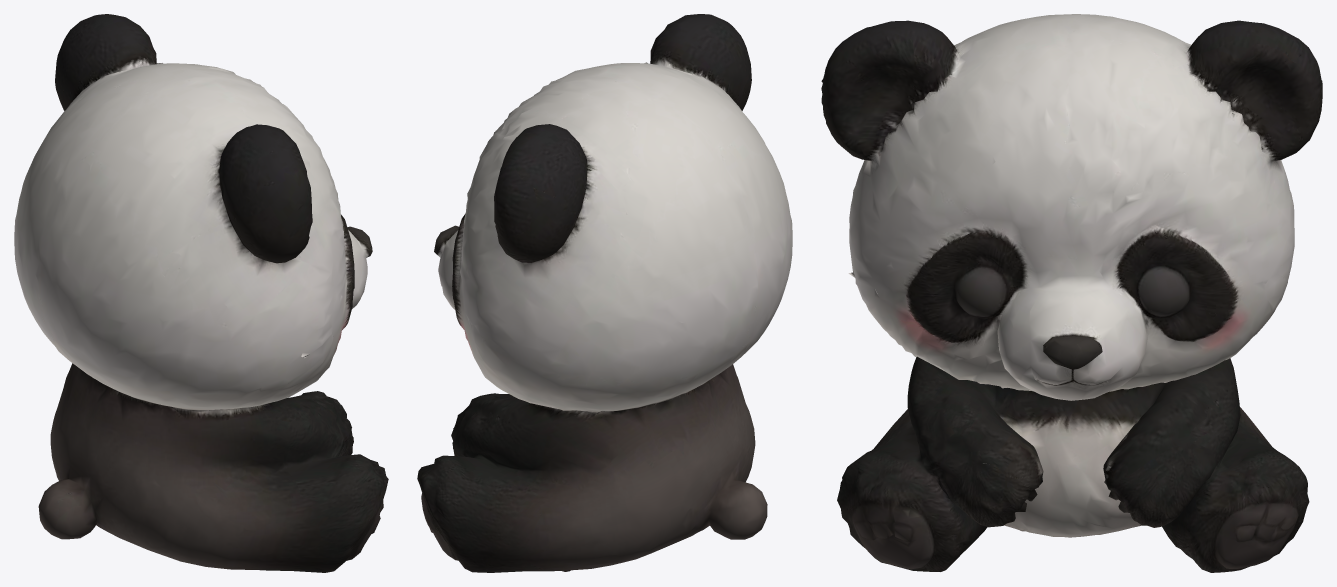
The model's file is panda.glb.
3 renders of one model, left to right at view 1: azimuth 30°, elevation 25°; view 2: azimuth 150°, elevation 25°; view 3: azimuth 270°, elevation 25°, orthographic. The views are drawn at different scales.
Visible parts, largest first — view 1: tripo_node_73fdbecc-ce13-4d79-b2ec-fcb6dad1f921; view 2: tripo_node_73fdbecc-ce13-4d79-b2ec-fcb6dad1f921; view 3: tripo_node_73fdbecc-ce13-4d79-b2ec-fcb6dad1f921.
Part boxes in pixels (left/top/right/bottom): tripo_node_73fdbecc-ce13-4d79-b2ec-fcb6dad1f921: left=14, top=14, right=388, bottom=572; tripo_node_73fdbecc-ce13-4d79-b2ec-fcb6dad1f921: left=417, top=14, right=792, bottom=572; tripo_node_73fdbecc-ce13-4d79-b2ec-fcb6dad1f921: left=821, top=14, right=1322, bottom=572.
Size of the model in its own units: 0.7522 by 1 by 0.8936.
1 material, 1 textured.
